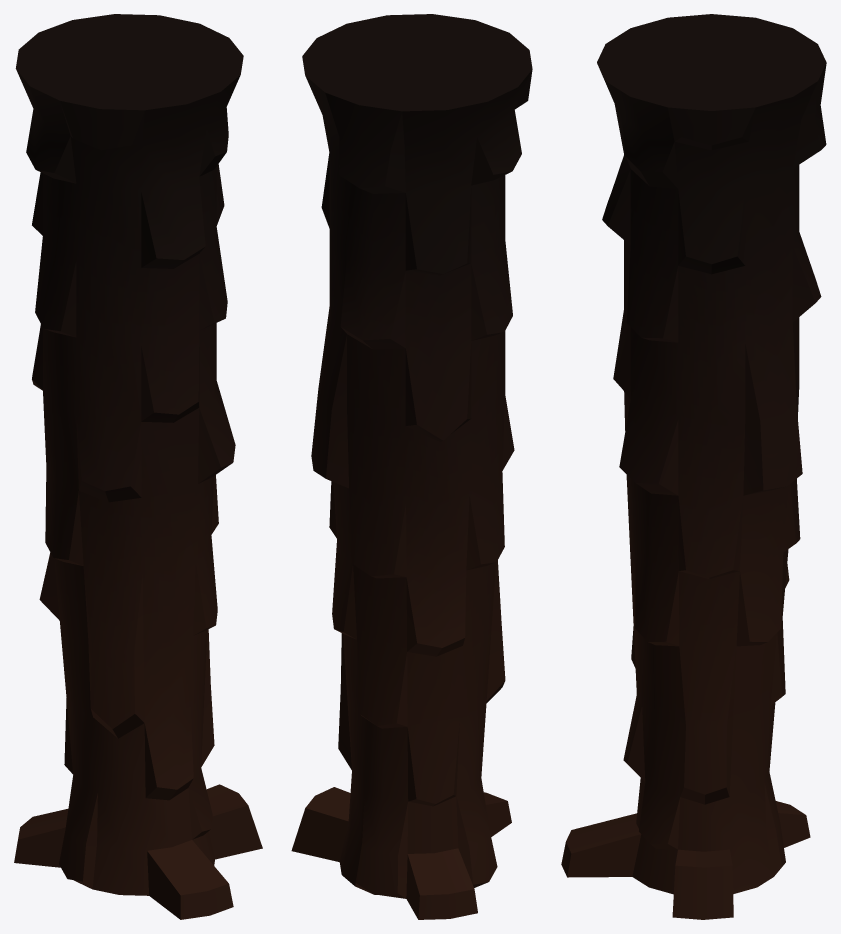
The model's file is Trunk_02.fbx.
3 views of the same model, side by side, from view 1: azimuth 30°, elevation 25°; view 2: azimuth 150°, elevation 25°; view 3: azimuth 270°, elevation 25° (orthographic).
Parts seen in each view (by area): view 1: Trunk_02; view 2: Trunk_02; view 3: Trunk_02.
Boxes of the visible parts, x1,y1,x2,y2 form: Trunk_02: [14, 14, 262, 919]; Trunk_02: [291, 14, 532, 919]; Trunk_02: [561, 14, 826, 919].
Bounding box in the file's own units: 196 × 687 × 207.
